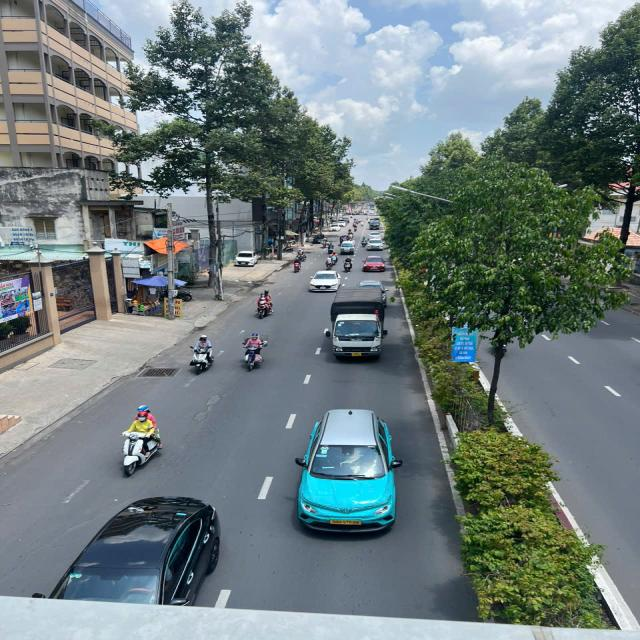ben: (328, 285, 390, 364)
car: (76, 491, 225, 606), (291, 403, 406, 537), (309, 269, 339, 294), (231, 246, 259, 270), (362, 253, 388, 273), (364, 239, 388, 252), (339, 239, 357, 254)
motobyte: (116, 402, 166, 483), (186, 332, 220, 377), (239, 329, 269, 374), (253, 285, 276, 322), (290, 258, 304, 274), (342, 255, 353, 272), (324, 254, 334, 268)
